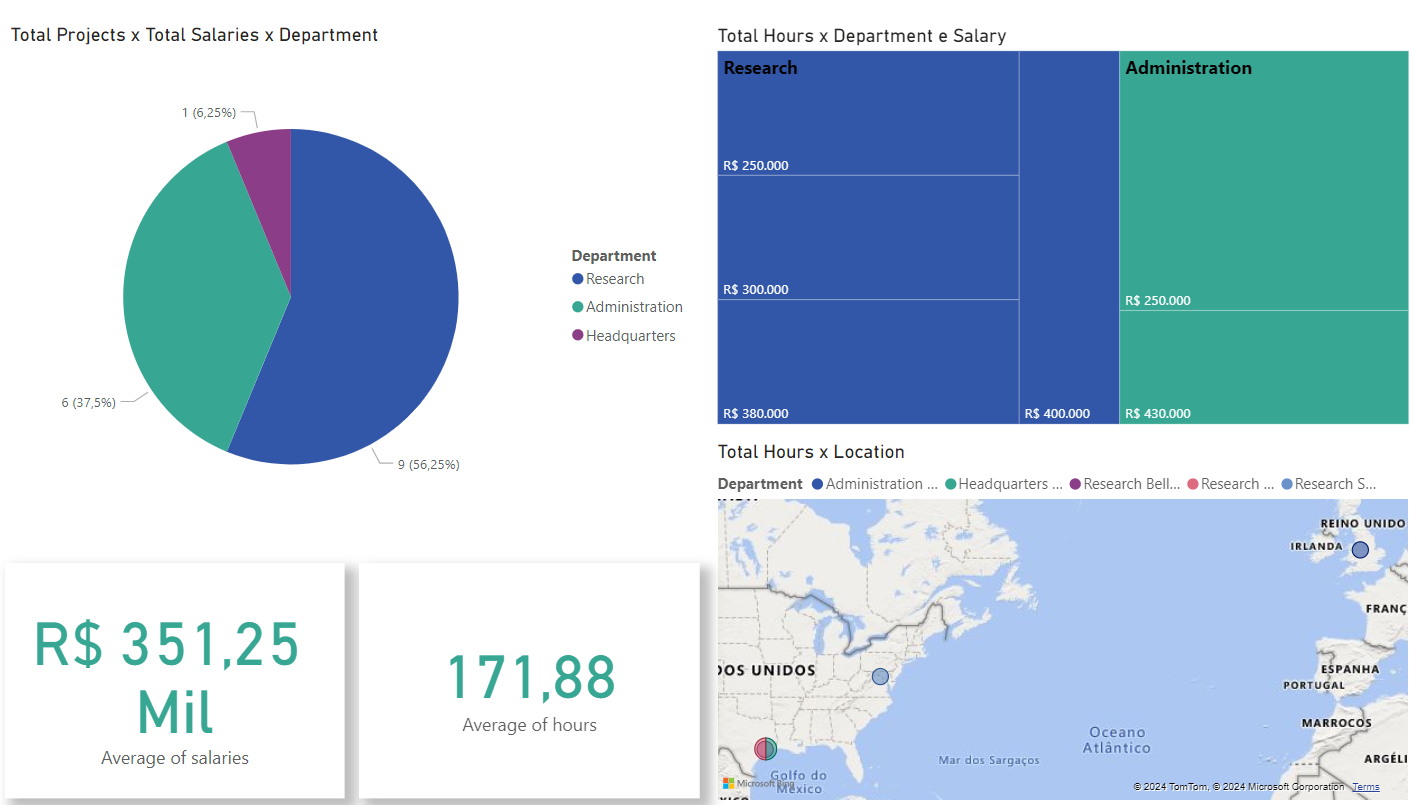

The dashboard page shown, as its layout file describes it:
{"tool":"powerbi","page":{"name":"Department","canvas":[1280,720],"ordinal":1},"visuals":[{"type":"pieChart","title":"Total Projects x Total Salaries x Department","fields":{"Category":["employee_dep.Department"],"Y":["CountNonNull(works_on.Project_ID)"]},"box":[10.1,21.6,619.2,469.4],"z":0},{"type":"map","title":"Total Hours x Location","fields":{"Category":["locations.Dlocation"],"Series":["locations.Dept_location"],"Size":["Sum(works_on.Hours)"]},"box":[640.5,393.6,625.9,326.4],"z":1000},{"type":"treemap","title":"Total Hours x Department e Salary","fields":{"Values":["Sum(works_on.Hours)"],"Group":["employee_dep.Department"],"Details":["employee_depart.Salary"]},"box":[640.3,21.9,626.6,362],"z":2000},{"type":"card","fields":{"Values":["Avg(employee_depart.Salary)"]},"box":[10.1,503.4,303.2,210.3],"z":3000},{"type":"card","fields":{"Values":["Avg(works_on.Hours)"]},"box":[325.5,503.4,304.4,210.3],"z":4000}]}

Visuals, with their boxes in screenshot pixels (x1, y1, x2, y2), scaled from the page's 1280x720 canvas onto the 1411x805 screenshot:
"Total Projects x Total Salaries x Department" pieChart: pyautogui.locateOnScreen(11, 24, 694, 549)
"Total Hours x Location" map: pyautogui.locateOnScreen(706, 440, 1396, 804)
"Total Hours x Department e Salary" treemap: pyautogui.locateOnScreen(706, 24, 1397, 429)
card - Avg(employee_depart.Salary): pyautogui.locateOnScreen(11, 563, 345, 798)
card - Avg(works_on.Hours): pyautogui.locateOnScreen(359, 563, 694, 798)
